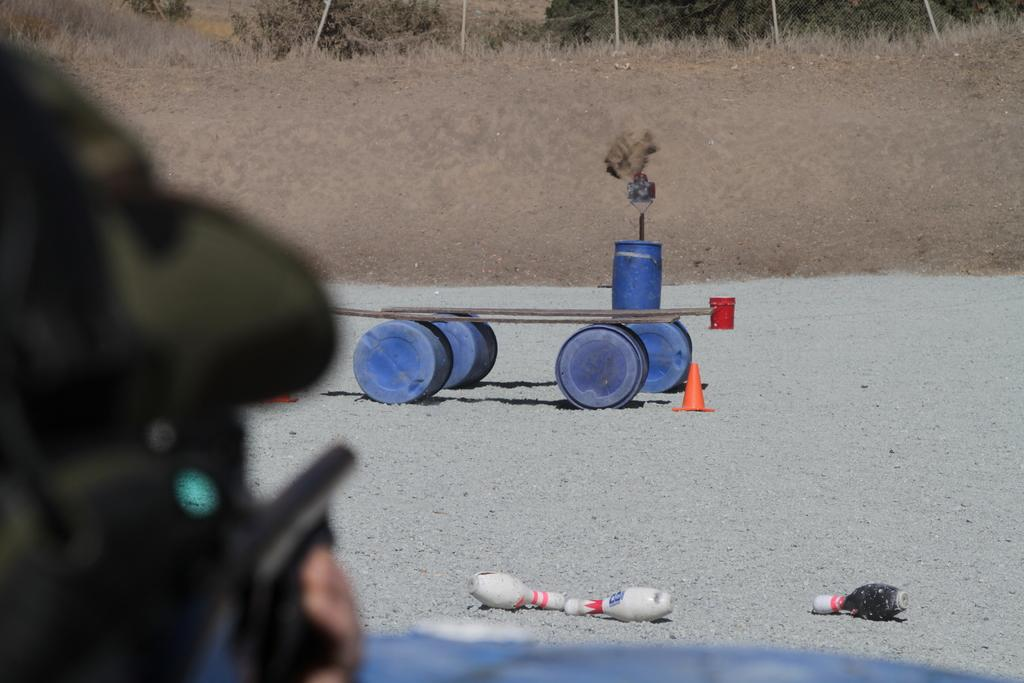weapon: (216, 440, 356, 682)
